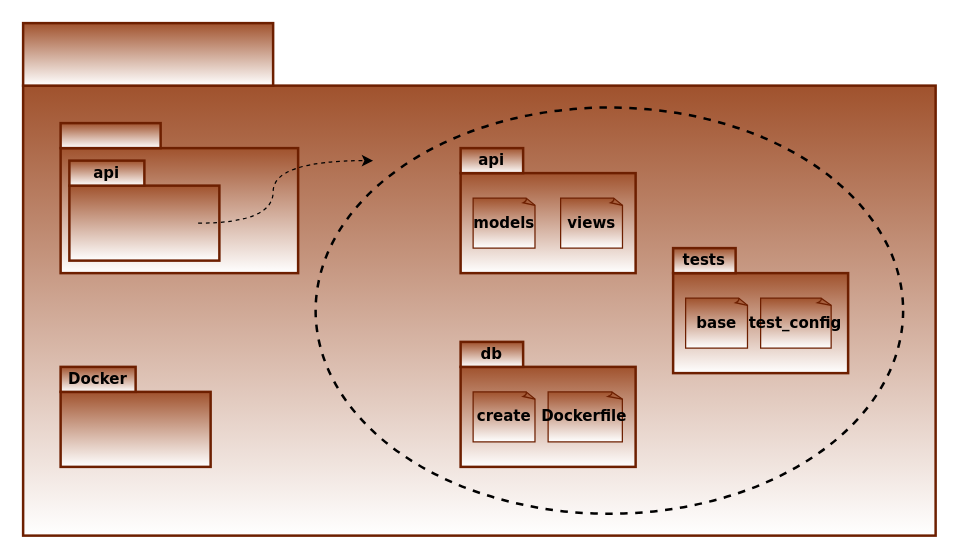
The diagram is 958 pixels wide and 558 high, and some of its shapes have lost their labels. Here are the shapes that lost their labels. From the top down, the centre of each, then its label:
(x=147, y=53): iGado - Backend
(x=110, y=135): project
